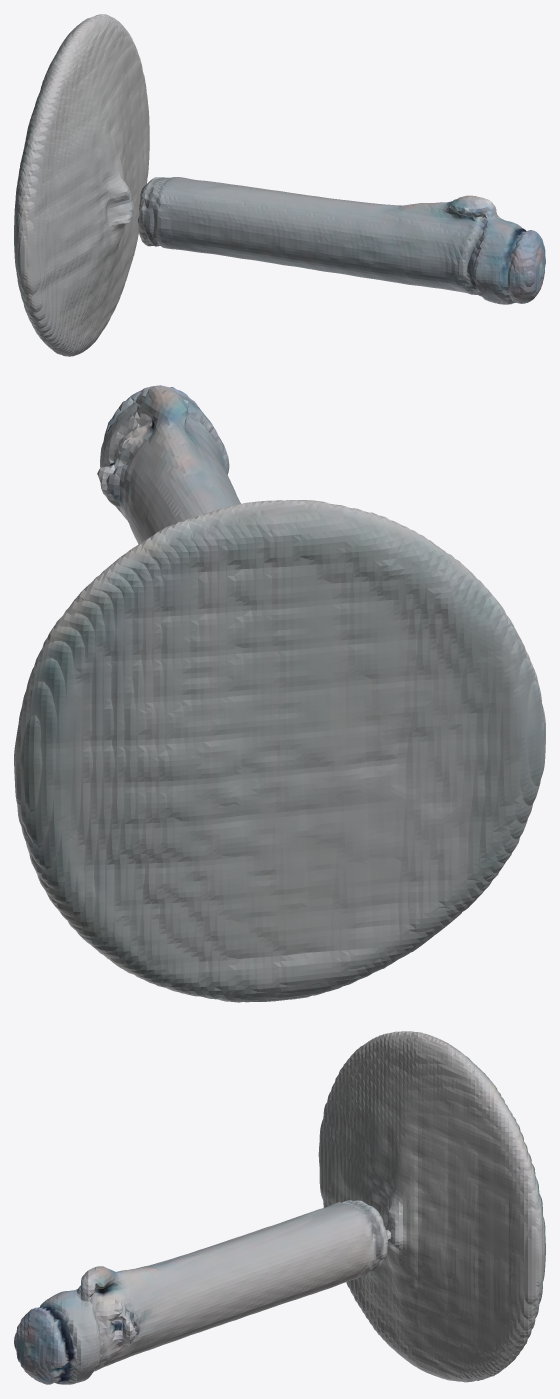
The picture shows the model from 3 angles, top to bottom: view 1: azimuth 30°, elevation 25°; view 2: azimuth 150°, elevation 25°; view 3: azimuth 270°, elevation 25°; orthographic projection. The views are drawn at different scales.
Bounding box in the file's own units: 0.8742 × 0.6569 × 0.9581.
